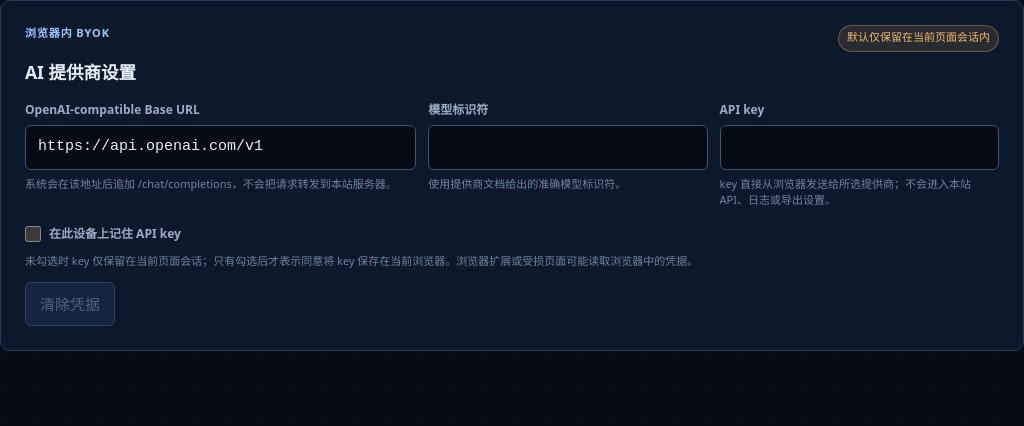
AiSettings › exposes accessible field descriptions and rejects unsafe remote HTTP
The width and height of the screenshot is (1024, 426).
Expected: the text "系统会在该地址后追加 /chat/completions，不会把请求转发到本站服务器。" is shown, [25, 176, 416, 192]
Replace the text in the field labelled "OpenAI-compatible Base URL" with "http://provider.example/v1" at (221, 148), box [25, 125, 416, 170]
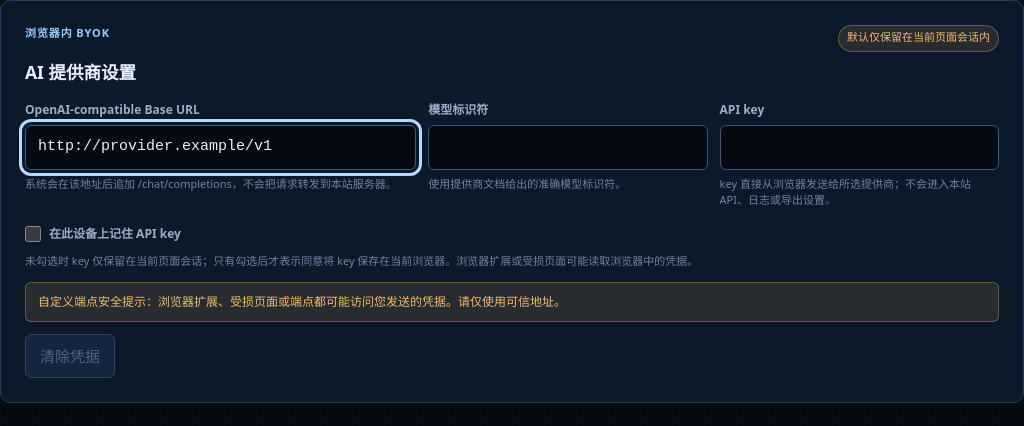
Press Tab
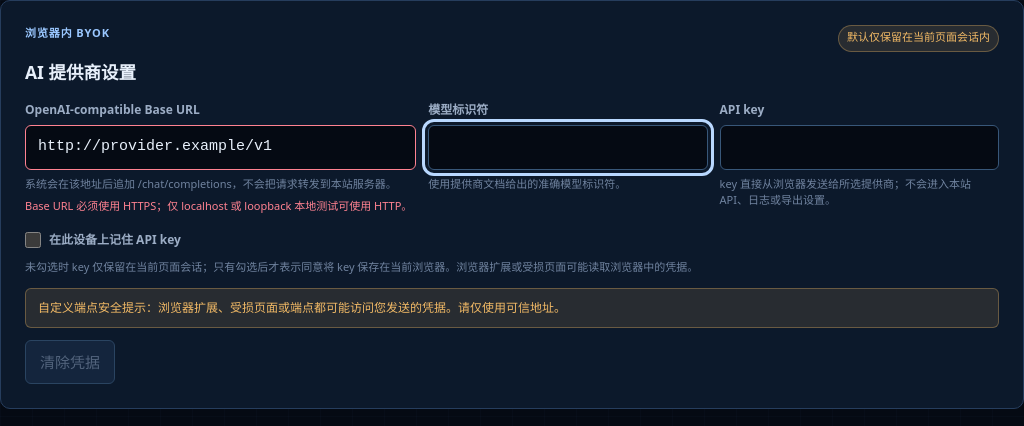
Expected: the text "Base URL 必须使用 HTTPS；仅 localhost 或 loopback 本地测试可使用 HTTP。" is shown, [25, 198, 416, 215]
